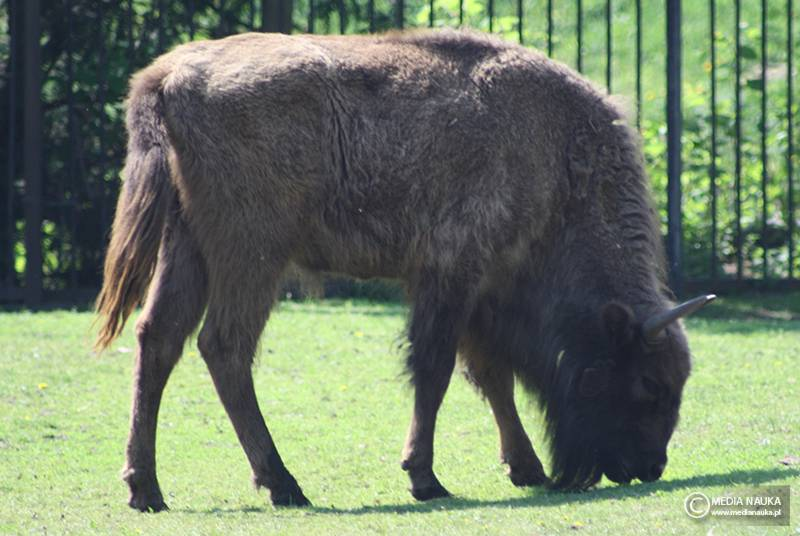zubr: (64, 19, 709, 507)
